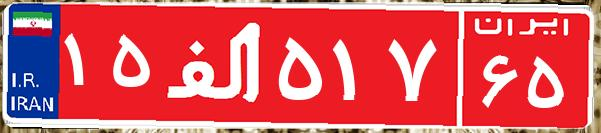1: (330, 28, 385, 110), (57, 26, 110, 107)
5: (273, 28, 330, 110), (110, 28, 158, 105), (525, 38, 570, 115)
6: (475, 38, 525, 113)
7: (385, 28, 445, 110)
الف: (158, 15, 273, 115)
